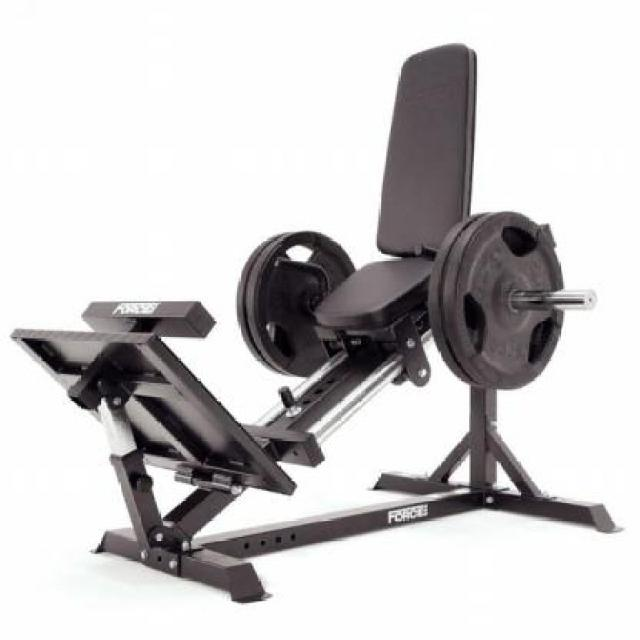leg press: (11, 6, 637, 623)
